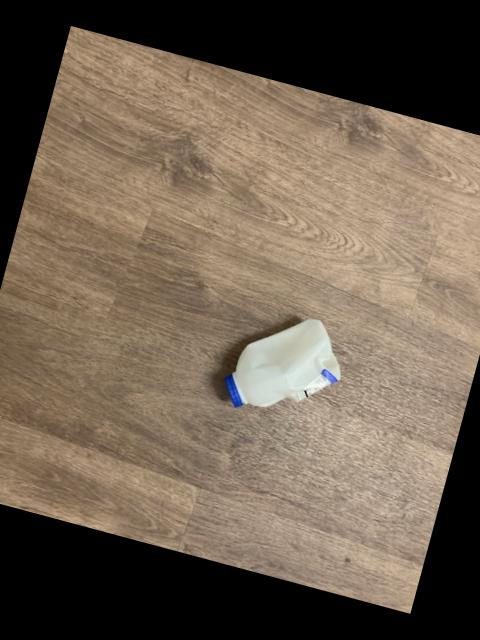plastic: (225, 321, 340, 408)
